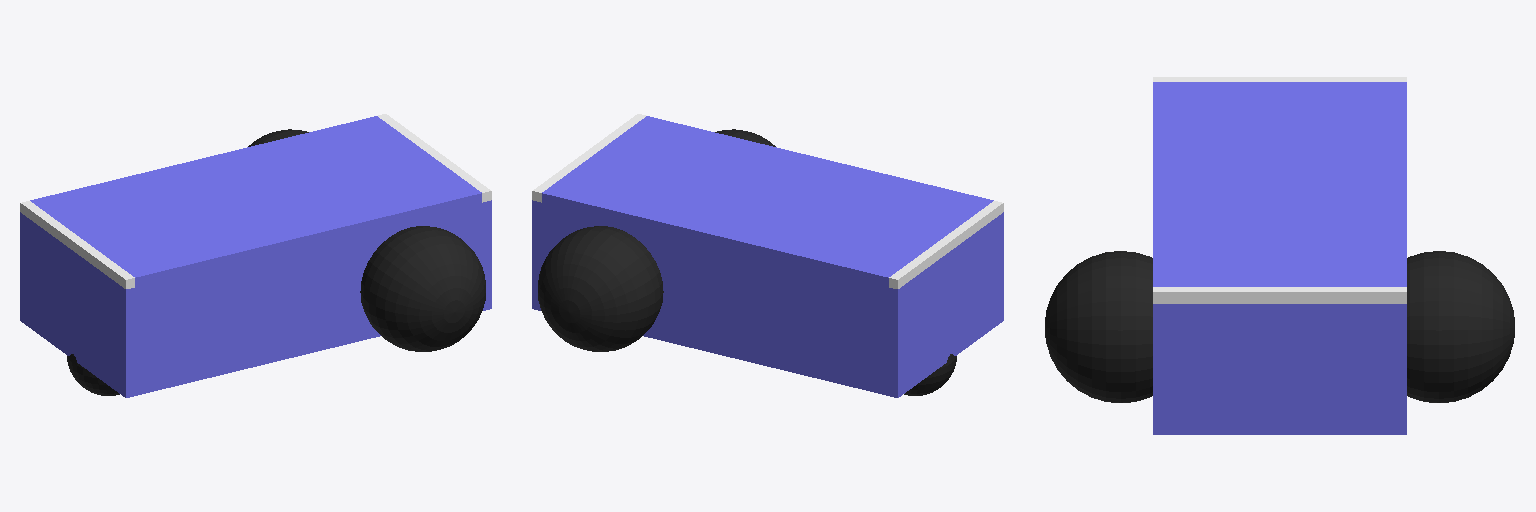
The robot description file, URDF, robot "led_robot":
<?xml version="1.0" ?>
<!-- =================================================================================== -->
<!-- |    This document was autogenerated by xacro from led_robot.urdf.xacro           | -->
<!-- |    EDITING THIS FILE BY HAND IS NOT RECOMMENDED                                 | -->
<!-- =================================================================================== -->
<robot name="led_robot">
  <gazebo reference="chassis_base">
    <light name="point_light_down" type="point">
      <pose>0 0 0.284363 0 0 0</pose>
      <diffuse>1 1 1 1</diffuse>
      <specular>0.1 0.1 0.1 1</specular>
      <attenuation>
        <range>1.5</range>
        <constant>0.8</constant>
        <linear>0.5</linear>
        <quadratic>0.5</quadratic>
      </attenuation>
      <cast_shadows>true</cast_shadows>
    </light>
  </gazebo>
  <gazebo>
    <plugin filename="gz-sim-diff-drive-system" name="gz::sim::systems::DiffDrive">
      <left_joint>left_wheel_joint</left_joint>
      <right_joint>right_wheel_joint</right_joint>
      <wheel_separation>1.25</wheel_separation>
      <wheel_radius>0.3</wheel_radius>
      <odom_publish_frequency>1</odom_publish_frequency>
      <max_linear_acceleration>1</max_linear_acceleration>
      <min_linear_acceleration>-1</min_linear_acceleration>
      <max_angular_acceleration>2</max_angular_acceleration>
      <min_angular_acceleration>-2</min_angular_acceleration>
      <max_linear_velocity>0.5</max_linear_velocity>
      <min_linear_velocity>-0.5</min_linear_velocity>
      <max_angular_velocity>1</max_angular_velocity>
      <min_angular_velocity>-1</min_angular_velocity>
    </plugin>
    <!-- LED Plugin -->
    <plugin filename="libgz_led_plugin.so" name="gz::sim::systems::LedPlugin">
      <led_group_name>led_robot</led_group_name>
      <led name="back_led">
        <visual_name>back_led::back_led_visual</visual_name>
      </led>
      <led name="front_led">
        <visual_name>front_led::front_led_visual</visual_name>
      </led>
      <led name="bottom_led">
        <light_name>chassis_base::point_light_down</light_name>
      </led>
      <startup_mode>idle</startup_mode>
      <mode name="idle">
        <step always_on="false">
          <color>0 1 1 1</color>
          <on_time>1.0</on_time>
          <intensity>2.0</intensity>
        </step>
        <step always_on="false">
          <color>1 1 1 1</color>
          <on_time>1.0</on_time>
          <intensity>0.0</intensity>
        </step>
      </mode>
      <mode name="emergency">
        <step always_on="false">
          <color>1 0 0 1</color>
          <on_time>1.0</on_time>
          <intensity>2.0</intensity>
        </step>
        <step always_on="false">
          <color>1 1 1 1</color>
          <on_time>1.0</on_time>
          <intensity>0.0</intensity>
        </step>
      </mode>
      <mode name="front_navigation">
        <active_leds>
          <led>front_led</led>
        </active_leds>
        <step always_on="true">
          <color>0 1 1 1</color>
        </step>
      </mode>
      <mode name="reverse_navigation">
        <active_leds>
          <led>back_led</led>
        </active_leds>
        <step always_on="true">
          <color>0 1 1 1</color>
        </step>
      </mode>
    </plugin>
  </gazebo>
  <gazebo reference="base_to_top_joint">
    <preserveFixedJoint>true</preserveFixedJoint>
  </gazebo>
  <gazebo reference="top_to_front_led_joint">
    <preserveFixedJoint>true</preserveFixedJoint>
  </gazebo>
  <gazebo reference="top_to_back_led_joint">
    <preserveFixedJoint>true</preserveFixedJoint>
  </gazebo>
  <gazebo reference="caster_wheel">
    <preserveFixedJoint>true</preserveFixedJoint>
  </gazebo>
  <!-- Base link -->
  <link name="chassis_base">
    <inertial>
      <origin rpy="0 0 0" xyz="-0.151427 0 0.175"/>
      <mass value="1.14395"/>
      <inertia ixx="0.126164" ixy="0" ixz="0" iyy="0.416519" iyz="0" izz="0.481014"/>
    </inertial>
    <visual name="chassis_base_visual">
      <origin rpy="0 0 0" xyz="0 0 0"/>
      <geometry>
        <box size="2.0 1 0.568726"/>
      </geometry>
      <material name="">
        <color rgba="0.5 0.5 1.0 1"/>
      </material>
    </visual>
    <collision name="chassis_base_collision">
      <origin rpy="0 0 0" xyz="0 0 0"/>
      <geometry>
        <box size="2.0 1 0.568726"/>
      </geometry>
    </collision>
  </link>
  <!-- Top link -->
  <link name="chassis_top">
    <inertial>
      <origin rpy="0 0 0" xyz="-0.151427 0 0.484363"/>
      <mass value="1.14395"/>
      <inertia ixx="0.126164" ixy="0" ixz="0" iyy="0.416519" iyz="0" izz="0.481014"/>
    </inertial>
    <visual name="chassis_top_visual">
      <origin rpy="0 0 0" xyz="0 0 0"/>
      <geometry>
        <box size="1.9 1 0.05"/>
      </geometry>
      <material name="">
        <color rgba="0.5 0.5 1.0 1"/>
      </material>
    </visual>
    <collision name="chassis_top_collision">
      <origin rpy="0 0 0" xyz="0 0 0"/>
      <geometry>
        <box size="1.9 1 0.05"/>
      </geometry>
    </collision>
  </link>
  <!-- Front LED -->
  <link name="front_led">
    <inertial>
      <origin rpy="0 0 0" xyz="-1.126427 0 0.484363"/>
      <mass value="0.01"/>
      <inertia ixx="1e-6" ixy="0" ixz="0" iyy="1e-6" iyz="0" izz="1e-6"/>
    </inertial>
    <visual name="front_led_visual">
      <origin rpy="0 0 0" xyz="0 0 0"/>
      <geometry>
        <box size="0.05 1 0.05"/>
      </geometry>
      <material name="">
        <color rgba="1.0 1.0 1.0 1"/>
      </material>
    </visual>
    <collision name="front_led_collision">
      <origin rpy="0 0 0" xyz="0 0 0"/>
      <geometry>
        <box size="0.05 1 0.05"/>
      </geometry>
    </collision>
  </link>
  <!-- Back LED -->
  <link name="back_led">
    <inertial>
      <origin rpy="0 0 0" xyz="0.823573 0 0.484363"/>
      <mass value="0.01"/>
      <inertia ixx="1e-6" ixy="0" ixz="0" iyy="1e-6" iyz="0" izz="1e-6"/>
    </inertial>
    <visual name="back_led_visual">
      <origin rpy="0 0 0" xyz="0 0 0"/>
      <geometry>
        <box size="0.05 1 0.05"/>
      </geometry>
      <material name="">
        <color rgba="1.0 1.0 1.0 1"/>
      </material>
    </visual>
    <collision name="back_led_collision">
      <origin rpy="0 0 0" xyz="0 0 0"/>
      <geometry>
        <box size="0.05 1 0.05"/>
      </geometry>
    </collision>
  </link>
  <!-- Left wheel -->
  <link name="left_wheel">
    <inertial>
      <origin rpy="-1.5707 0 0" xyz="0.554283 0.625029 -0.025"/>
      <mass value="2"/>
      <inertia ixx="0.145833" ixy="0" ixz="0" iyy="0.145833" iyz="0" izz="0.125"/>
    </inertial>
    <visual name="left_wheel_visual">
      <origin rpy="0 0 0" xyz="0 0 0"/>
      <geometry>
        <sphere radius="0.3"/>
      </geometry>
      <material name="">
        <color rgba="0.2 0.2 0.2 1"/>
      </material>
    </visual>
    <collision name="left_wheel_collision">
      <origin rpy="0 0 0" xyz="0 0 0"/>
      <geometry>
        <sphere radius="0.3"/>
      </geometry>
    </collision>
  </link>
  <!-- Right wheel -->
  <link name="right_wheel">
    <inertial>
      <origin rpy="-1.5707 0 0" xyz="0.554282 -0.625029 -0.025"/>
      <mass value="2"/>
      <inertia ixx="0.145833" ixy="0" ixz="0" iyy="0.145833" iyz="0" izz="0.125"/>
    </inertial>
    <visual name="right_wheel_visual">
      <origin rpy="0 0 0" xyz="0 0 0"/>
      <geometry>
        <sphere radius="0.3"/>
      </geometry>
      <material name="">
        <color rgba="0.2 0.2 0.2 1"/>
      </material>
    </visual>
    <collision name="right_wheel_collision">
      <origin rpy="0 0 0" xyz="0 0 0"/>
      <geometry>
        <sphere radius="0.3"/>
      </geometry>
    </collision>
  </link>
  <!-- Caster -->
  <link name="caster">
    <inertial>
      <origin rpy="0 0 0" xyz="-0.957138 0 -0.125"/>
      <mass value="1"/>
      <inertia ixx="0.1" ixy="0" ixz="0" iyy="0.1" iyz="0" izz="0.1"/>
    </inertial>
    <visual name="caster_visual">
      <origin rpy="0 0 0" xyz="0 0 0"/>
      <geometry>
        <sphere radius="0.2"/>
      </geometry>
      <material name="">
        <color rgba="0.2 0.2 0.2 1"/>
      </material>
    </visual>
    <collision name="caster_collision">
      <origin rpy="0 0 0" xyz="0 0 0"/>
      <geometry>
        <sphere radius="0.2"/>
      </geometry>
    </collision>
  </link>
  <!-- Joints -->
  <joint name="left_wheel_joint" type="continuous">
    <parent link="chassis_base"/>
    <child link="left_wheel"/>
    <origin rpy="-1.5707 0 0" xyz="0.554283 0.625029 -0.025"/>
    <axis xyz="0 0 1"/>
    <!-- <limit lower="-1.79769e+308" upper="1.79769e+308"/> -->
  </joint>
  <joint name="right_wheel_joint" type="continuous">
    <parent link="chassis_base"/>
    <child link="right_wheel"/>
    <origin rpy="-1.5707 0 0" xyz="0.554282 -0.625029 -0.025"/>
    <axis xyz="0 0 1"/>
    <!-- <limit lower="-1.79769e+308" upper="1.79769e+308"/> -->
  </joint>
  <joint name="base_to_top_joint" type="fixed">
    <parent link="chassis_base"/>
    <child link="chassis_top"/>
    <origin rpy="0 0 0" xyz="0 0 0.309363"/>
  </joint>
  <joint name="top_to_front_led_joint" type="fixed">
    <parent link="chassis_top"/>
    <child link="front_led"/>
    <origin rpy="0 0 0" xyz="-0.975 0 0"/>
  </joint>
  <joint name="top_to_back_led_joint" type="fixed">
    <parent link="chassis_top"/>
    <child link="back_led"/>
    <origin rpy="0 0 0" xyz="0.975 0 0"/>
  </joint>
  <joint name="caster_wheel_joint" type="fixed">
    <parent link="chassis_base"/>
    <child link="caster"/>
    <origin rpy="0 0 0" xyz="-0.805711 0 -0.3"/>
  </joint>
</robot>

--- Facts derived from the render (not from the file) ---
Views: 3 orthographic renders of the robot side by side, from view 1: azimuth 30°, elevation 25°; view 2: azimuth 150°, elevation 25°; view 3: azimuth 270°, elevation 25°.
Robot: led_robot — 7 links, 6 joints (2 continuous, 4 fixed); root link chassis_base; default pose: every joint at zero.
Links seen in each view (by area): view 1: chassis_base, chassis_top, right_wheel, front_led, back_led, caster; view 2: chassis_base, chassis_top, left_wheel, front_led, back_led, caster; view 3: chassis_top, chassis_base, left_wheel, right_wheel, back_led, front_led.
Link boxes in pixels (x1=…): chassis_base: x1=20, y1=200, x2=491, y2=397; chassis_top: x1=30, y1=116, x2=481, y2=286; right_wheel: x1=360, y1=226, x2=485, y2=351; front_led: x1=20, y1=201, x2=134, y2=288; back_led: x1=378, y1=114, x2=491, y2=202; caster: x1=67, y1=354, x2=119, y2=395; chassis_base: x1=532, y1=200, x2=1003, y2=397; chassis_top: x1=542, y1=116, x2=993, y2=286; left_wheel: x1=538, y1=226, x2=663, y2=351; front_led: x1=889, y1=201, x2=1003, y2=288; back_led: x1=532, y1=114, x2=645, y2=202; caster: x1=904, y1=354, x2=956, y2=395; chassis_top: x1=1153, y1=82, x2=1406, y2=286; chassis_base: x1=1153, y1=304, x2=1406, y2=434; left_wheel: x1=1407, y1=251, x2=1514, y2=402; right_wheel: x1=1045, y1=251, x2=1152, y2=402; back_led: x1=1153, y1=287, x2=1406, y2=303; front_led: x1=1153, y1=77, x2=1406, y2=81.
Bounding box of the posed robot: 2.01 × 1.85 × 0.8344 m (x, y, z).
Geometry: primitives only (box / cylinder / sphere), no mesh files.
